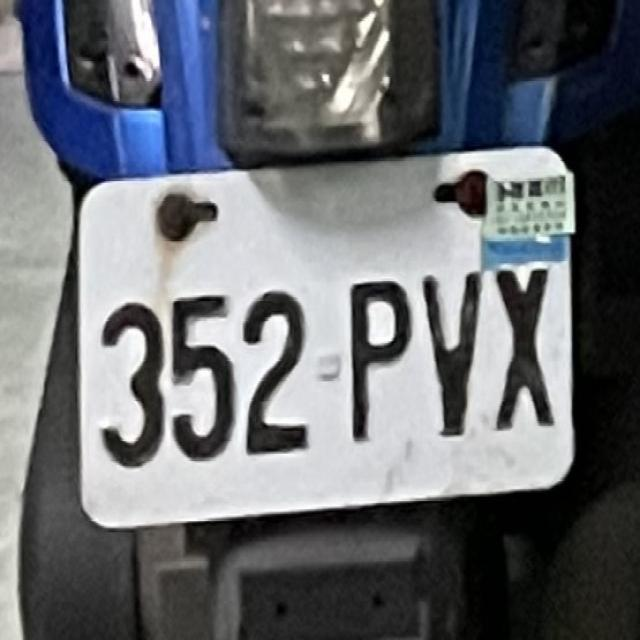license-plate: (74, 145, 581, 529)
